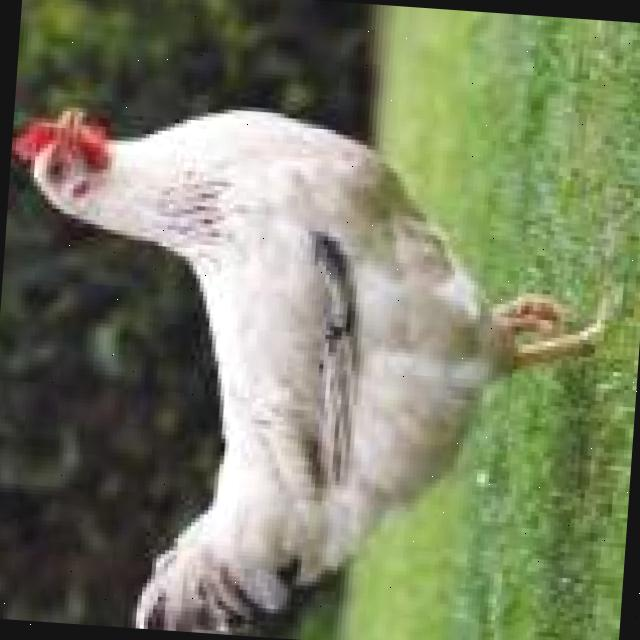Healthy: (0, 76, 630, 640)
